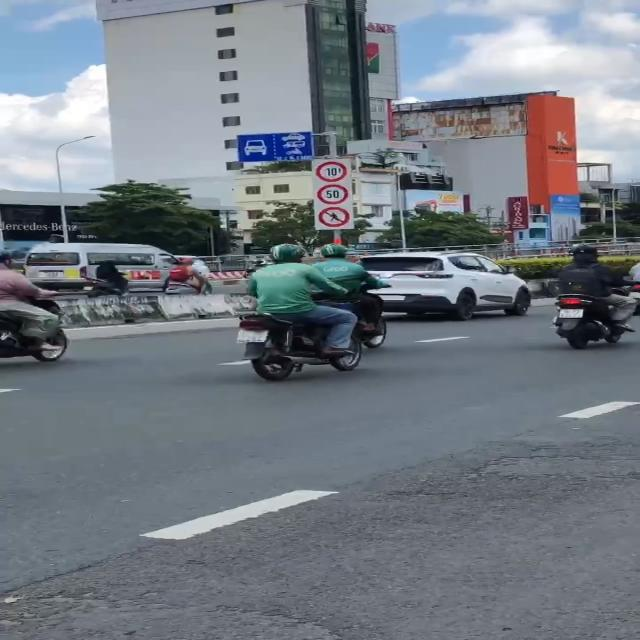Bien bao cam nguoi di bo: (318, 204, 352, 230)
Bien bao toc do toi da cho phep: (316, 184, 348, 205)
